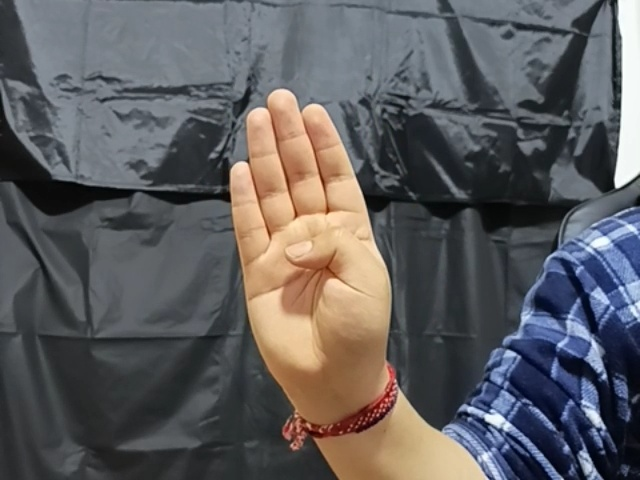B: (220, 85, 395, 391)
